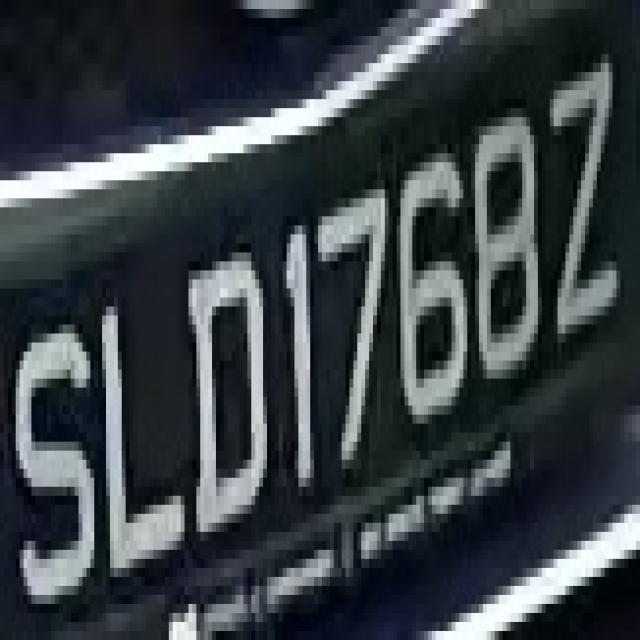1: (271, 216, 326, 514)
6: (397, 144, 471, 460)
7: (310, 180, 401, 478)
8: (467, 90, 550, 415)
D: (188, 234, 279, 550)
L: (78, 279, 192, 586)
S: (4, 315, 102, 622)
Z: (530, 18, 628, 352)
